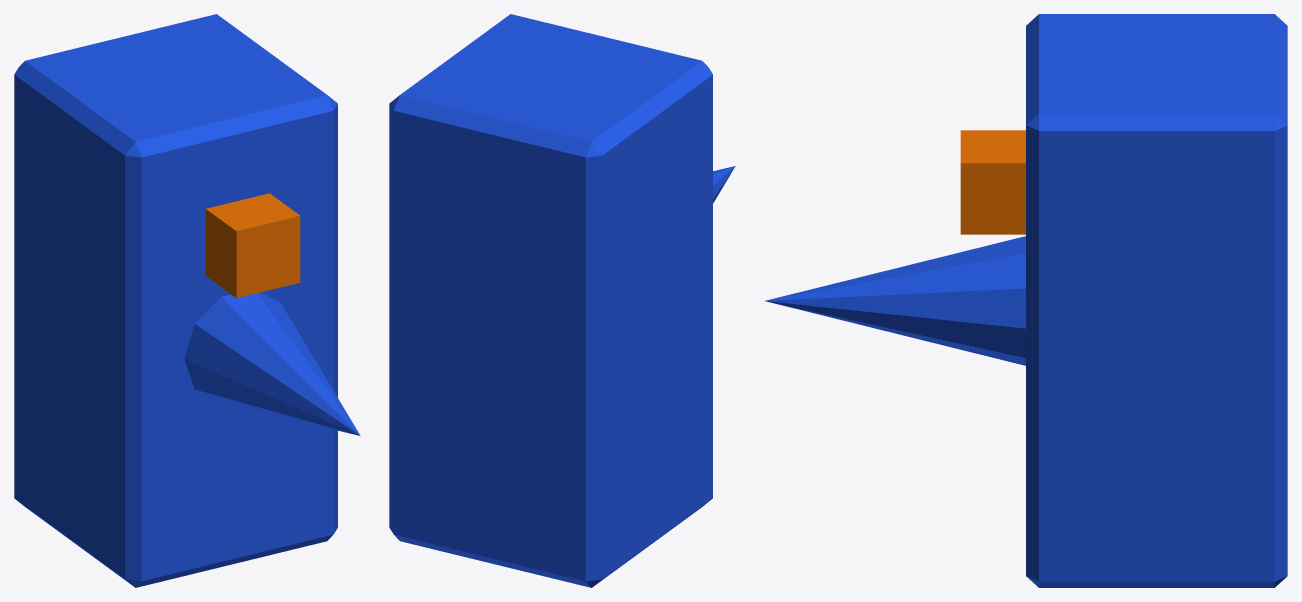
File: attack player.fbx
The picture shows the model from 3 angles, left to right: view 1: azimuth 30°, elevation 25°; view 2: azimuth 150°, elevation 25°; view 3: azimuth 270°, elevation 25°; orthographic projection. The views are drawn at different scales.
Visible parts, largest first — view 1: pCube1, pCone1, pCube2; view 2: pCube1; view 3: pCube1, pCone1, pCube2.
Part boxes in pixels (bbox=[...]): pCube1: bbox=[14, 14, 337, 587]; pCone1: bbox=[184, 292, 360, 435]; pCube2: bbox=[205, 193, 300, 298]; pCube1: bbox=[389, 14, 712, 587]; pCube1: bbox=[1026, 14, 1287, 587]; pCone1: bbox=[765, 236, 1025, 365]; pCube2: bbox=[960, 130, 1025, 234].
Size of the model in its own units: 1 by 2 by 2.
